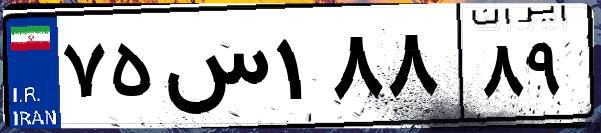1: (270, 28, 330, 110)
5: (110, 28, 158, 98)
7: (57, 26, 110, 100)
8: (385, 28, 445, 110), (330, 28, 385, 110), (475, 38, 525, 113)
9: (525, 38, 570, 115)
س: (158, 20, 270, 120)
